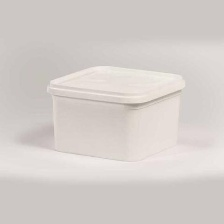plastic_box: (42, 59, 190, 166)
